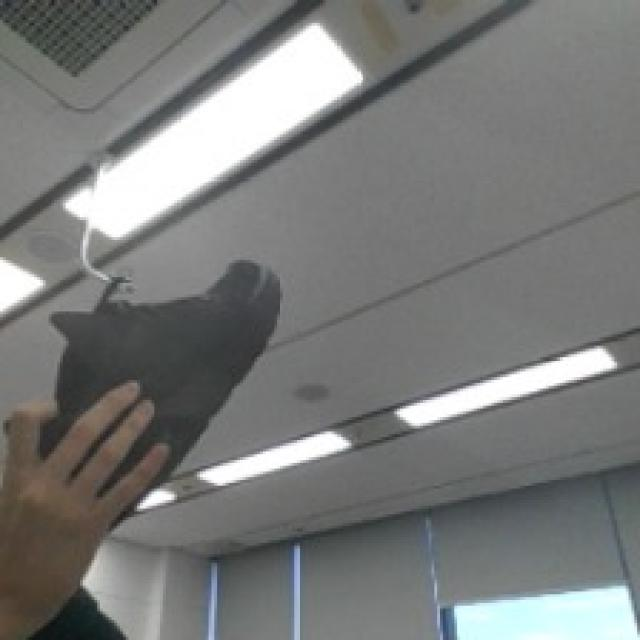shoes: (43, 180, 333, 508)
